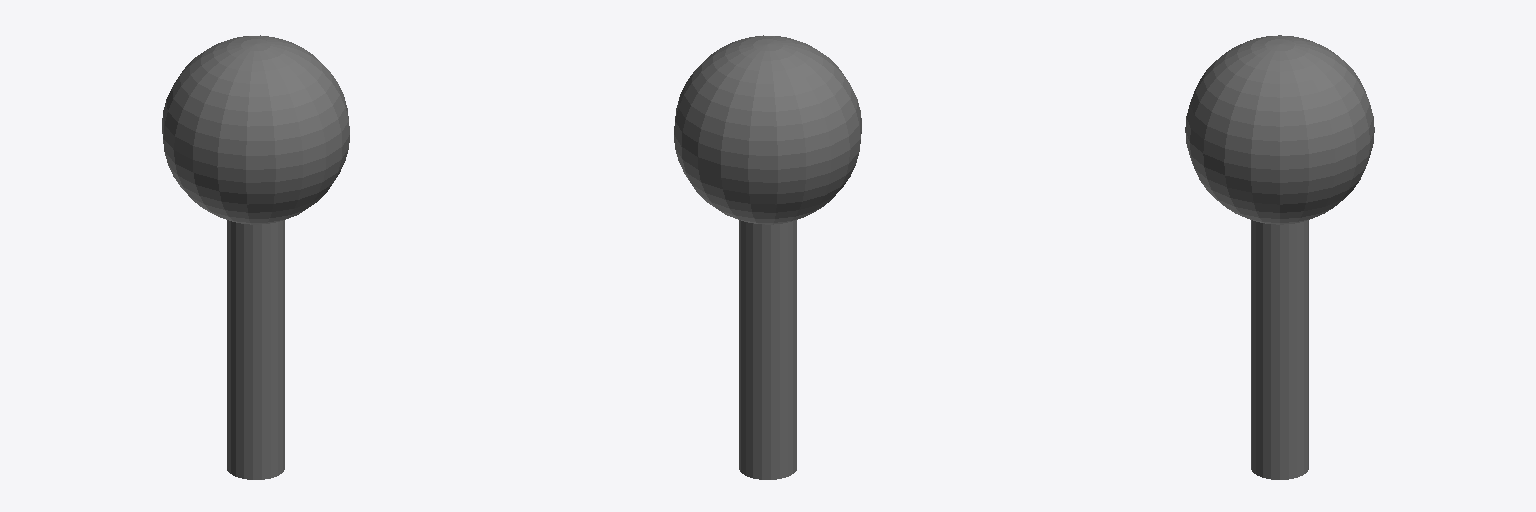
File: handle.obj
3 renders of one model, left to right at view 1: azimuth 30°, elevation 25°; view 2: azimuth 150°, elevation 25°; view 3: azimuth 270°, elevation 25°, orthographic.
Parts seen in each view (by area): view 1: handle; view 2: handle; view 3: handle.
Boxes of the visible parts, <box> form: handle: <box>162,35,349,479</box>; handle: <box>674,35,861,479</box>; handle: <box>1185,35,1374,479</box>.
Bounding box in the file's own units: 4 × 9.87 × 4.